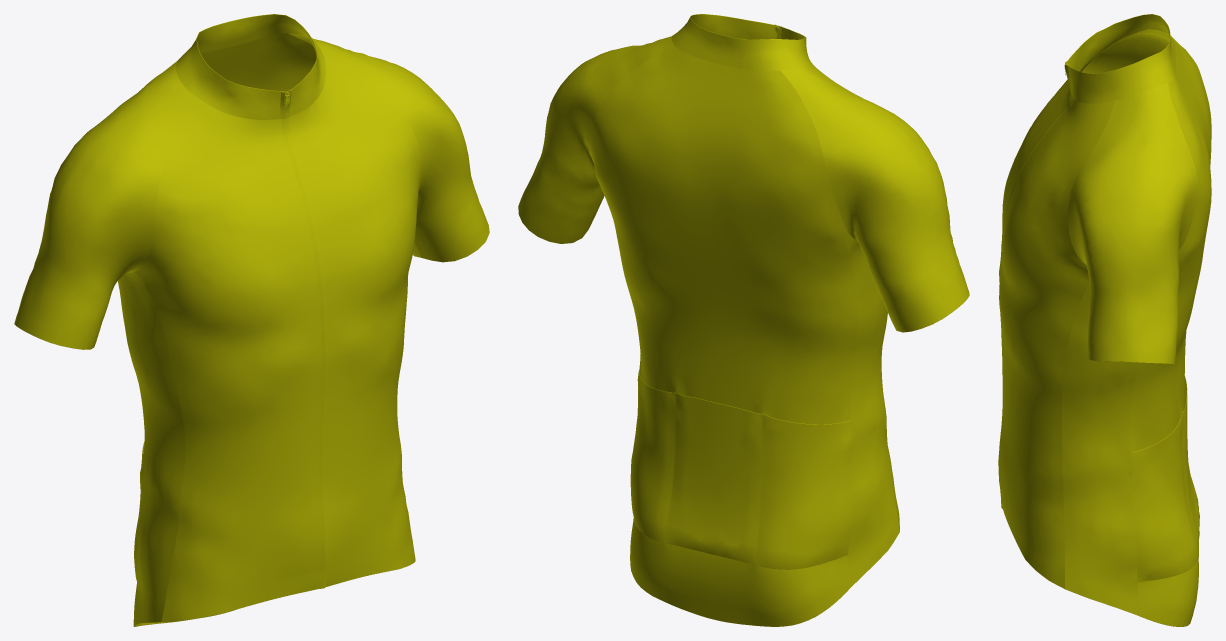
3 renders of one model, left to right at view 1: azimuth 30°, elevation 25°; view 2: azimuth 150°, elevation 25°; view 3: azimuth 270°, elevation 25°, orthographic. The views are drawn at different scales.
Visible parts, largest first — view 1: mesh_out, mesh_in; view 2: mesh_out; view 3: mesh_out, mesh_in.
Boxes of the visible parts, x1=… form: mesh_out: x1=14, y1=14, x2=489, y2=626; mesh_in: x1=200, y1=33, x2=316, y2=91; mesh_out: x1=518, y1=14, x2=969, y2=626; mesh_out: x1=998, y1=14, x2=1211, y2=626; mesh_in: x1=1080, y1=29, x2=1169, y2=73.
Bounding box in the file's own units: 58.39 × 73.64 × 25.1.
Materials: 1 (1 with a texture image).
